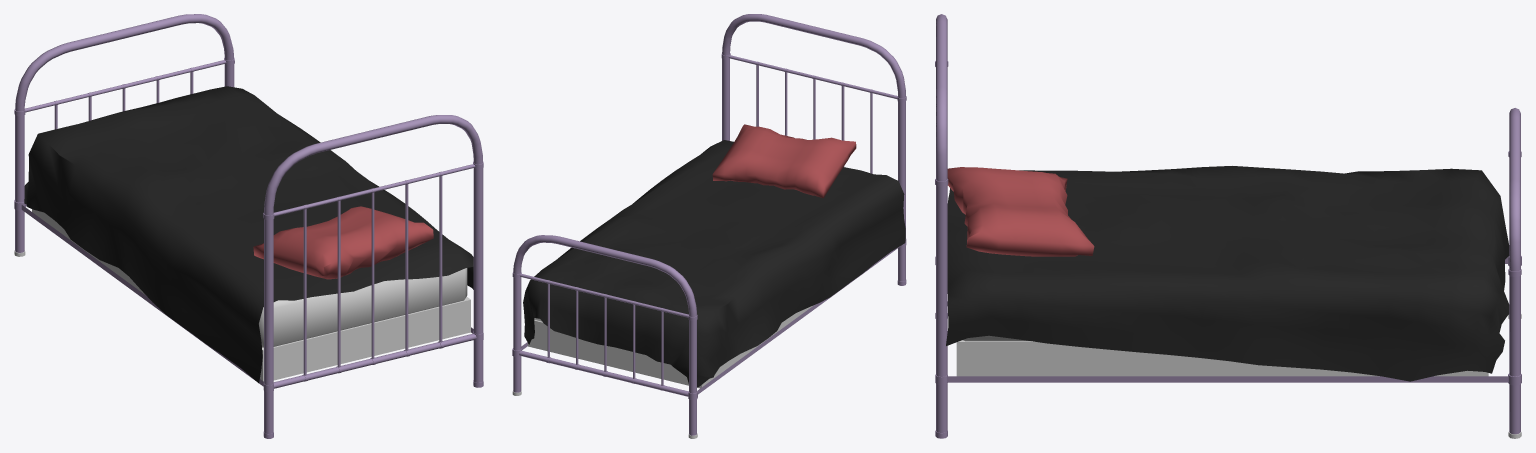
The model's file is DH_Art_PlayerBed.fbx.
3 renders of one model, left to right at view 1: azimuth 30°, elevation 25°; view 2: azimuth 150°, elevation 25°; view 3: azimuth 270°, elevation 25°, orthographic. The views are drawn at different scales.
Visible parts, largest first — view 1: Bed; view 2: Bed; view 3: Bed.
Boxes of the visible parts, bbox=[...] form: Bed: bbox=[14, 14, 483, 438]; Bed: bbox=[512, 14, 906, 438]; Bed: bbox=[935, 14, 1521, 438].
Bounding box in the file's own units: 112 × 128 × 210.
